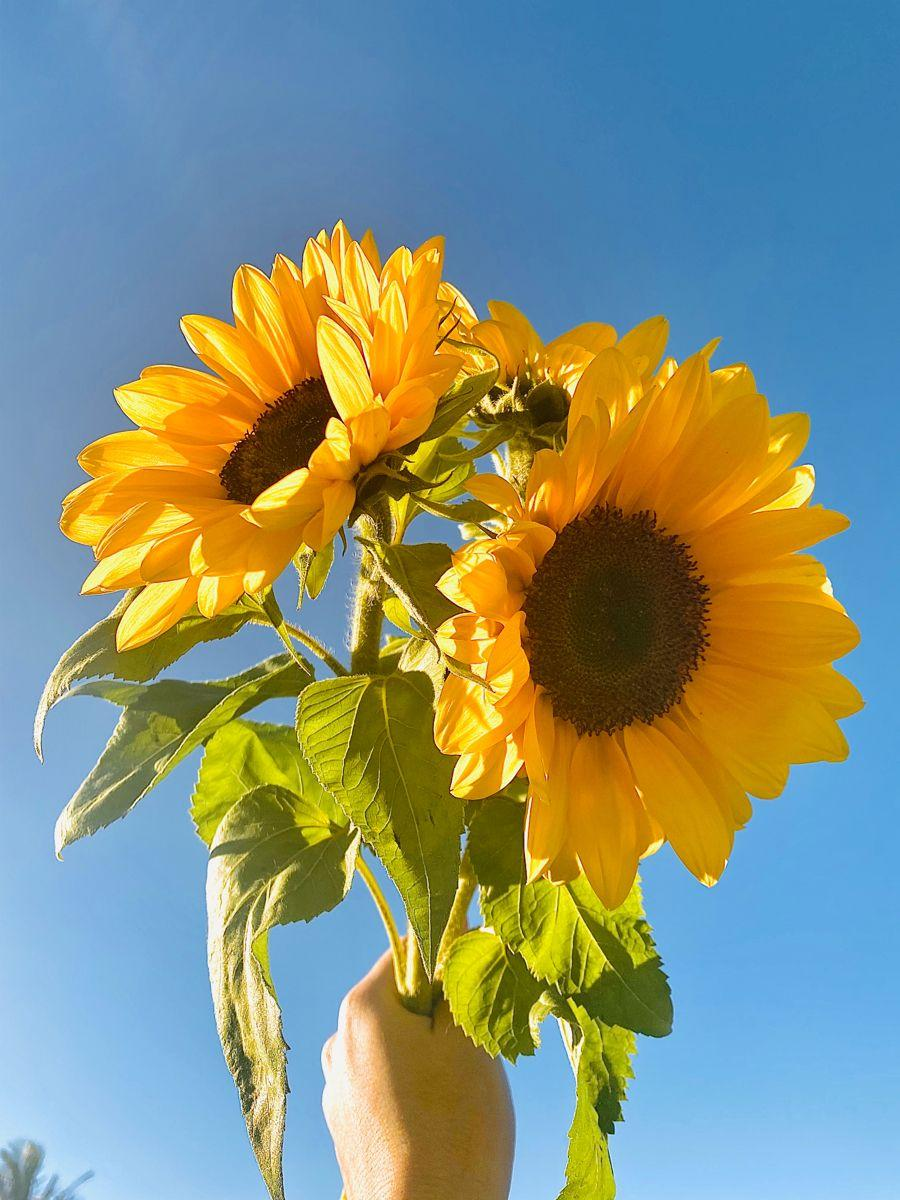sunflower: (428, 333, 864, 909), (57, 216, 474, 654)
